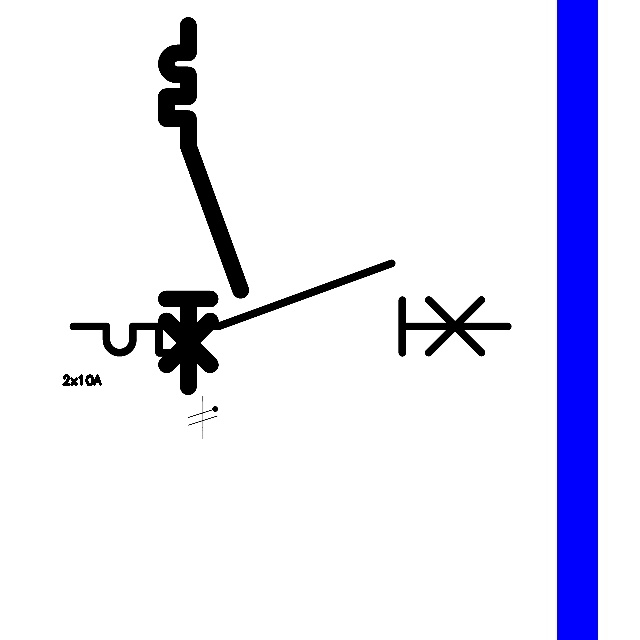interruptor_termomagnetico: (62, 252, 519, 364), (157, 16, 250, 396)
